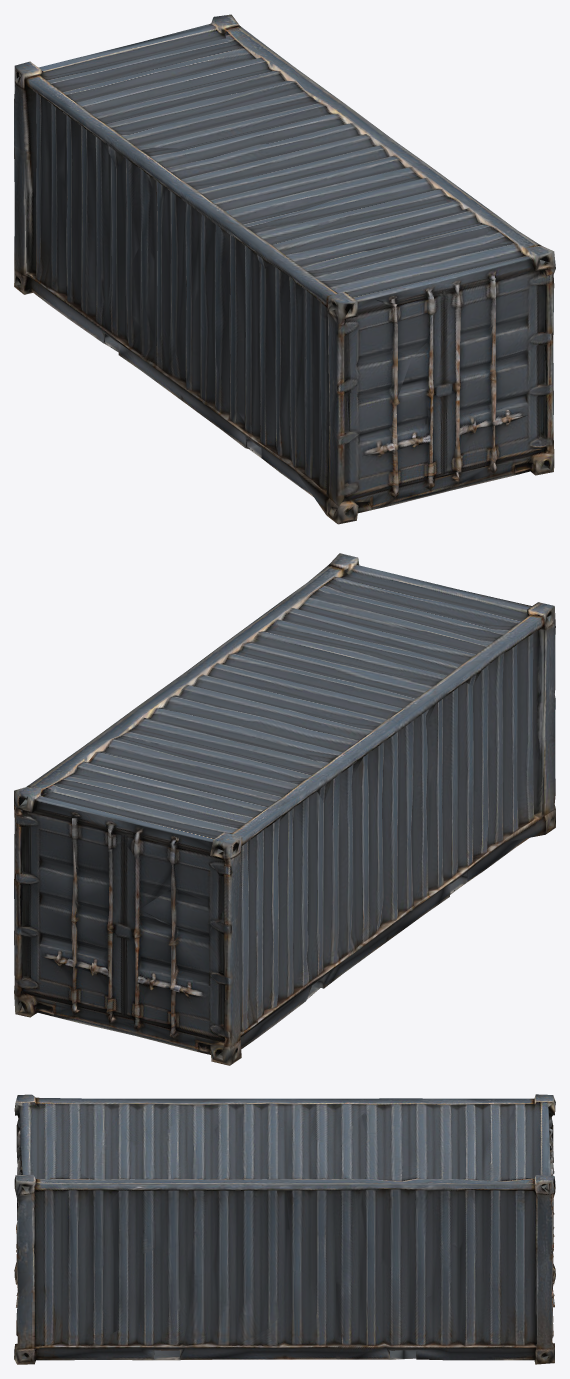
File: ARCH-CARGO-CONTAINER-lod0.glb
The picture shows the model from 3 angles, top to bottom: view 1: azimuth 30°, elevation 25°; view 2: azimuth 150°, elevation 25°; view 3: azimuth 270°, elevation 25°; orthographic projection. The views are drawn at different scales.
Parts seen in each view (by area): view 1: tripo_node_a714f377-b1ea-43ce-84ab-8be792a1663f; view 2: tripo_node_a714f377-b1ea-43ce-84ab-8be792a1663f; view 3: tripo_node_a714f377-b1ea-43ce-84ab-8be792a1663f.
Boxes of the visible parts, left/top/right/bottom form: tripo_node_a714f377-b1ea-43ce-84ab-8be792a1663f: left=14, top=14, right=555, bottom=524; tripo_node_a714f377-b1ea-43ce-84ab-8be792a1663f: left=14, top=553, right=555, bottom=1065; tripo_node_a714f377-b1ea-43ce-84ab-8be792a1663f: left=14, top=1094, right=555, bottom=1364.
Bounding box in the file's own units: 0.3862 × 0.3736 × 1.
Materials: 1 (1 with a texture image).
